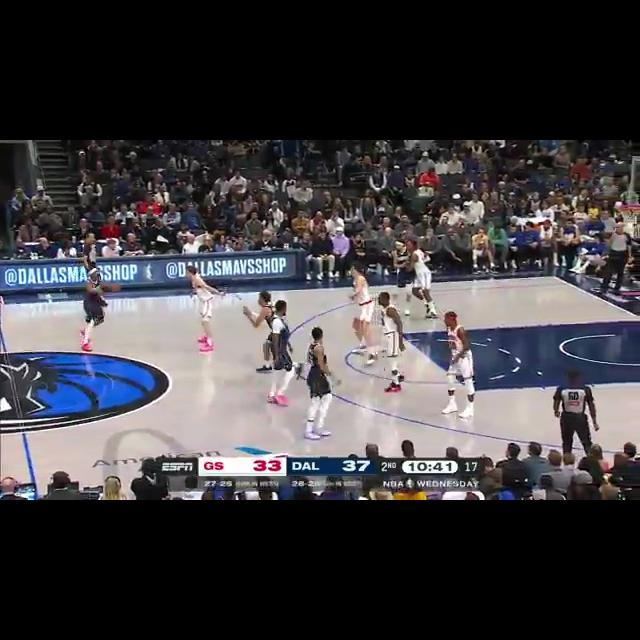Ball: (108, 282, 124, 298)
Team-1-Player: (301, 326, 344, 442), (262, 296, 302, 408), (75, 266, 115, 352), (388, 239, 417, 291), (238, 290, 280, 324)
Team-2-Player: (438, 310, 478, 420), (182, 265, 230, 355), (346, 262, 382, 364), (375, 290, 409, 394), (407, 240, 437, 318)
